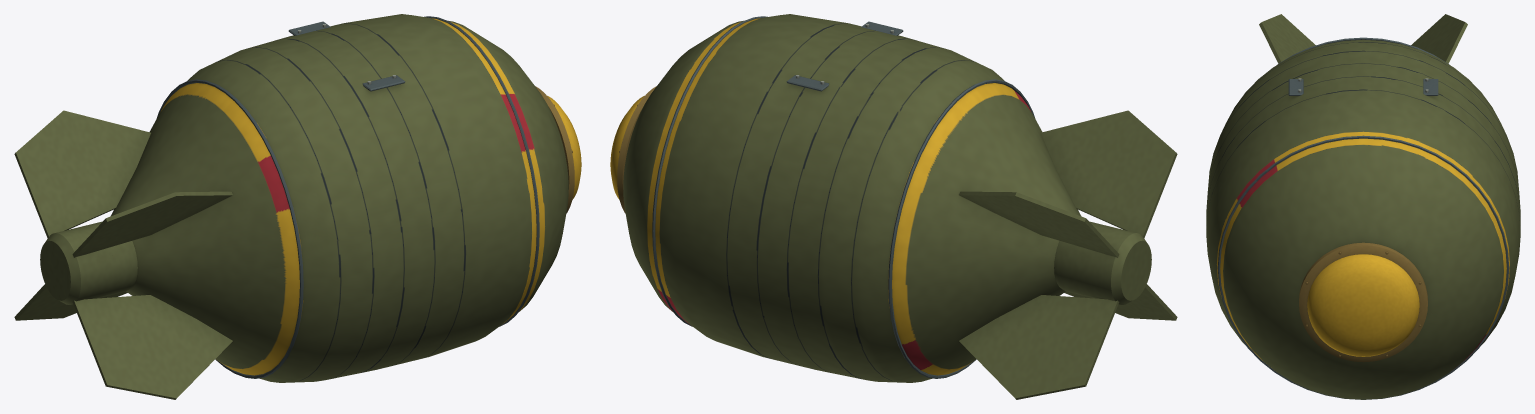
Rendered from bomb.glb.
3 renders of one model, left to right at view 1: azimuth 30°, elevation 25°; view 2: azimuth 150°, elevation 25°; view 3: azimuth 270°, elevation 25°, orthographic. The views are drawn at different scales.
Parts seen in each view (by area): view 1: bomb; view 2: bomb; view 3: bomb.
Part boxes in pixels (left/top/right/bottom): bomb: left=14, top=14, right=581, bottom=399; bomb: left=610, top=14, right=1177, bottom=399; bomb: left=1206, top=14, right=1520, bottom=399.
Size of the model in its own units: 2.87 by 1.68 by 1.68.
Materials: 1 (1 with a texture image).
